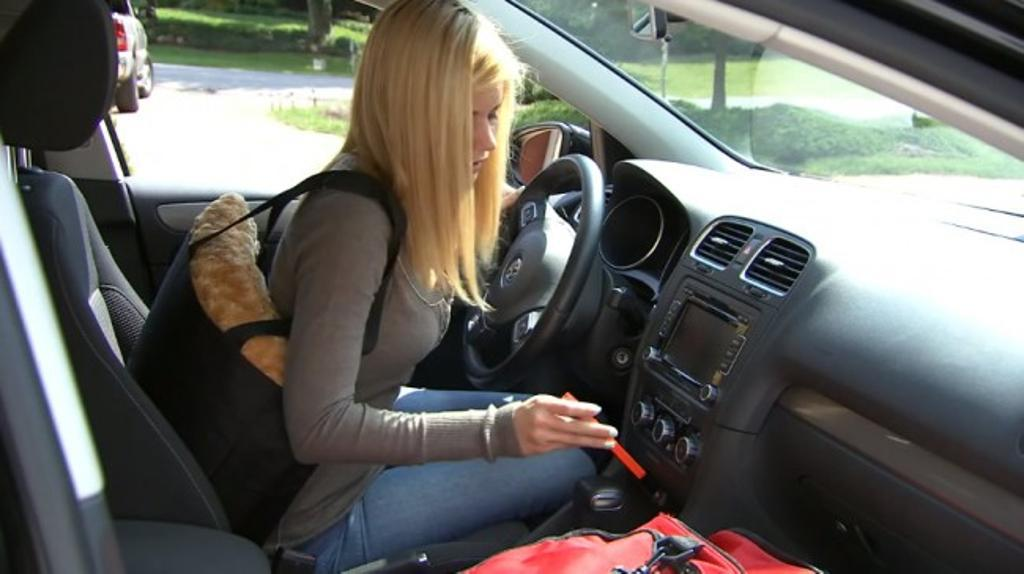face: (417, 67, 503, 201)
